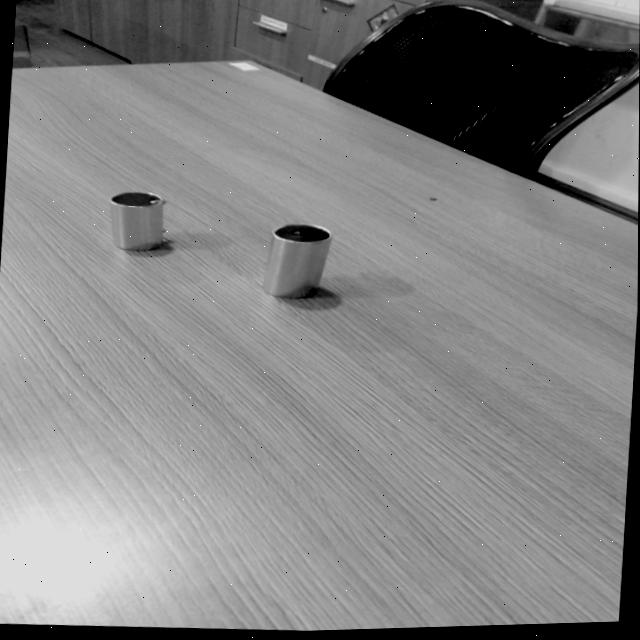Co_Lon: (257, 215, 334, 307)
Co_Nho: (109, 192, 166, 252)
